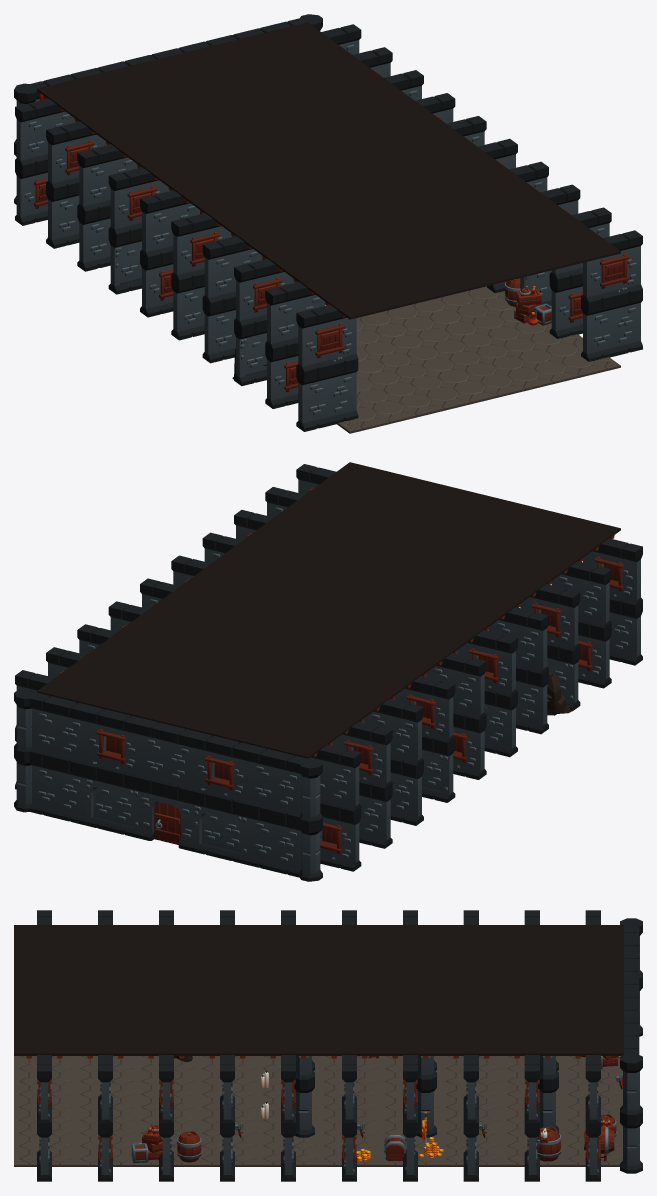
The model's file is level_2.glb.
3 renders of one model, top to bottom at view 1: azimuth 30°, elevation 25°; view 2: azimuth 150°, elevation 25°; view 3: azimuth 270°, elevation 25°, orthographic. The views are drawn at different scales.
Visible parts, largest first — view 1: Ortam_4, Ortam_3, Ortam_5, Ortam_1, Ortam_6, Ortam_7; view 2: Ortam_4, Ortam_3, Ortam_6, Ortam_5, Ortam_7, Ortam_1; view 3: Ortam_4, Ortam_1, Ortam_3, Ortam_6, Ortam_5, Ortam_2, Ortam_7.
Part boxes in pixels (<box>): Ortam_4: <box>91,22,620,431</box>; Ortam_3: <box>37,75,458,319</box>; Ortam_5: <box>14,83,642,361</box>; Ortam_1: <box>168,190,620,433</box>; Ortam_6: <box>30,14,486,146</box>; Ortam_7: <box>192,18,305,48</box>; Ortam_4: <box>37,462,642,802</box>; Ortam_3: <box>253,502,620,758</box>; Ortam_6: <box>14,578,306,877</box>; Ortam_5: <box>171,464,423,881</box>; Ortam_7: <box>29,692,144,824</box>; Ortam_1: <box>320,630,571,863</box>; Ortam_4: <box>14,910,623,1058</box>; Ortam_1: <box>14,1056,622,1166</box>; Ortam_3: <box>14,925,623,1161</box>; Ortam_6: <box>342,926,642,1181</box>; Ortam_5: <box>37,910,642,1181</box>; Ortam_2: <box>235,1056,622,1143</box>; Ortam_7: <box>624,1003,639,1054</box>.
Size of the model in its own units: 25 by 8.2 by 41.25.
1 material, 1 textured.
